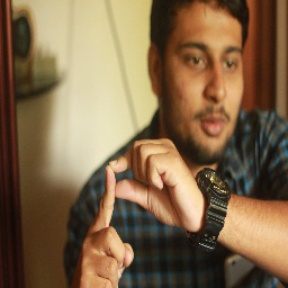P: (80, 136, 192, 287)
